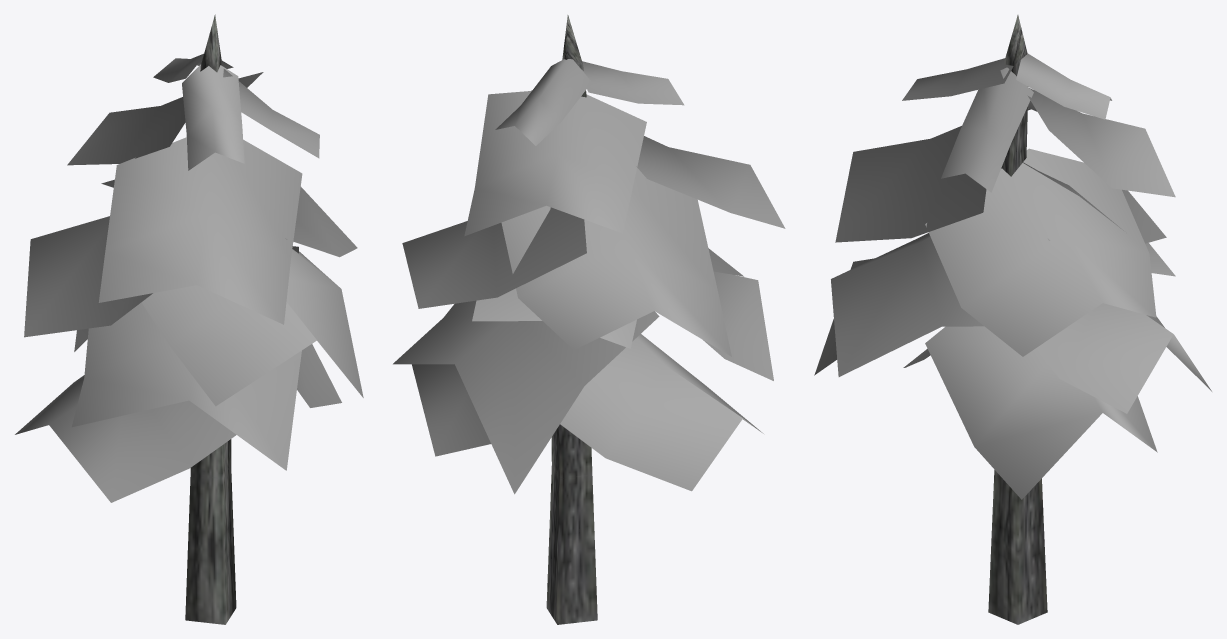
3 renders of one model, left to right at view 1: azimuth 30°, elevation 25°; view 2: azimuth 150°, elevation 25°; view 3: azimuth 270°, elevation 25°, orthographic.
Visible parts, largest first — view 1: t01; view 2: t01; view 3: t01.
Boxes of the visible parts, box(x1,y1,x2,y2) form: t01: box(15, 14, 363, 624); t01: box(393, 15, 785, 624); t01: box(814, 15, 1211, 624).
Bounding box in the file's own units: 661 × 1173 × 705.
